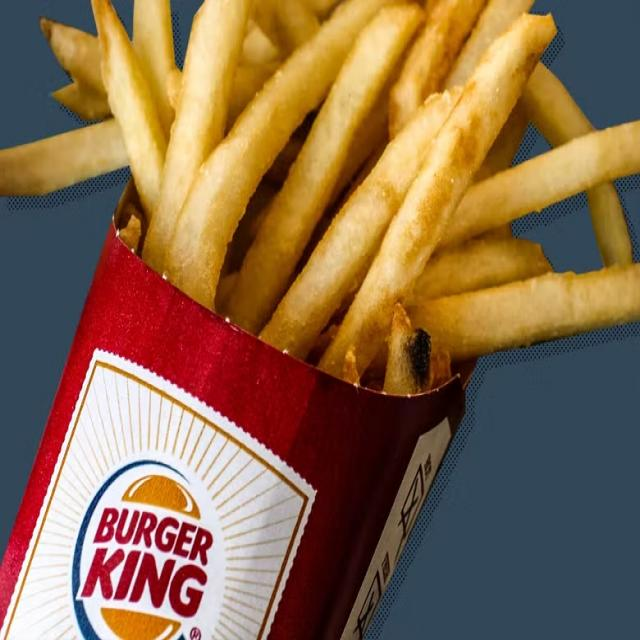Fries: (1, 6, 640, 417)
